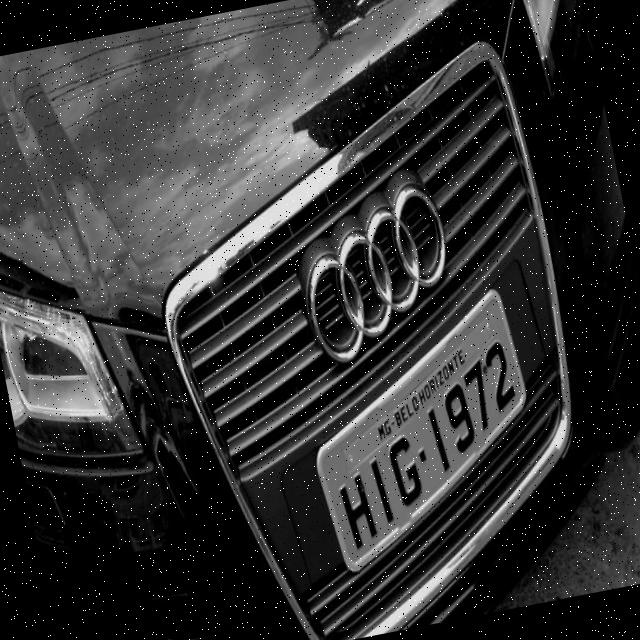placa_antiga: (316, 292, 533, 570)
